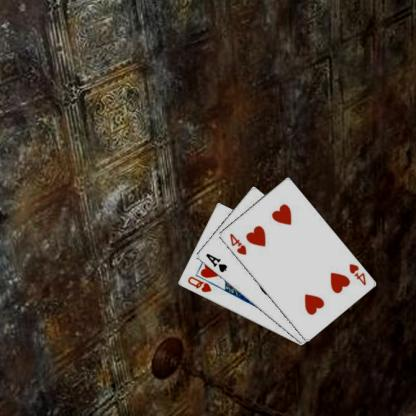4H: (226, 230, 247, 256), (346, 261, 367, 287)
AS: (203, 251, 228, 274)
QH: (184, 274, 212, 294)
